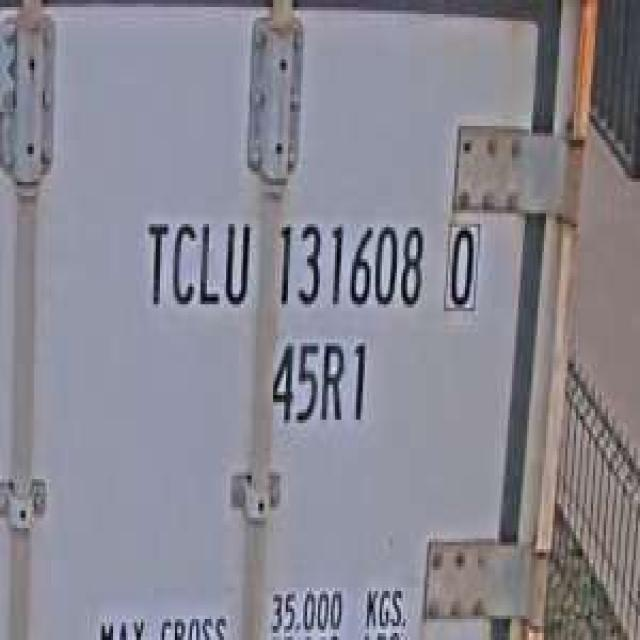dv: (437, 210, 482, 318)
owner: (139, 203, 254, 318)
serial: (271, 206, 427, 318)
size: (264, 328, 374, 434)
